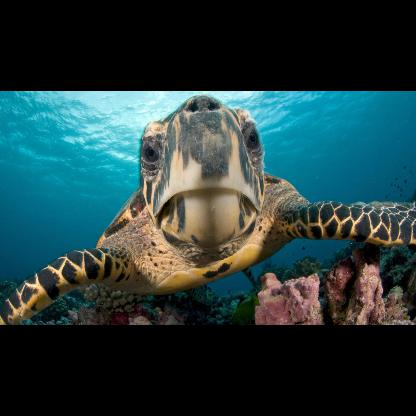turtle: (1, 93, 415, 324)
